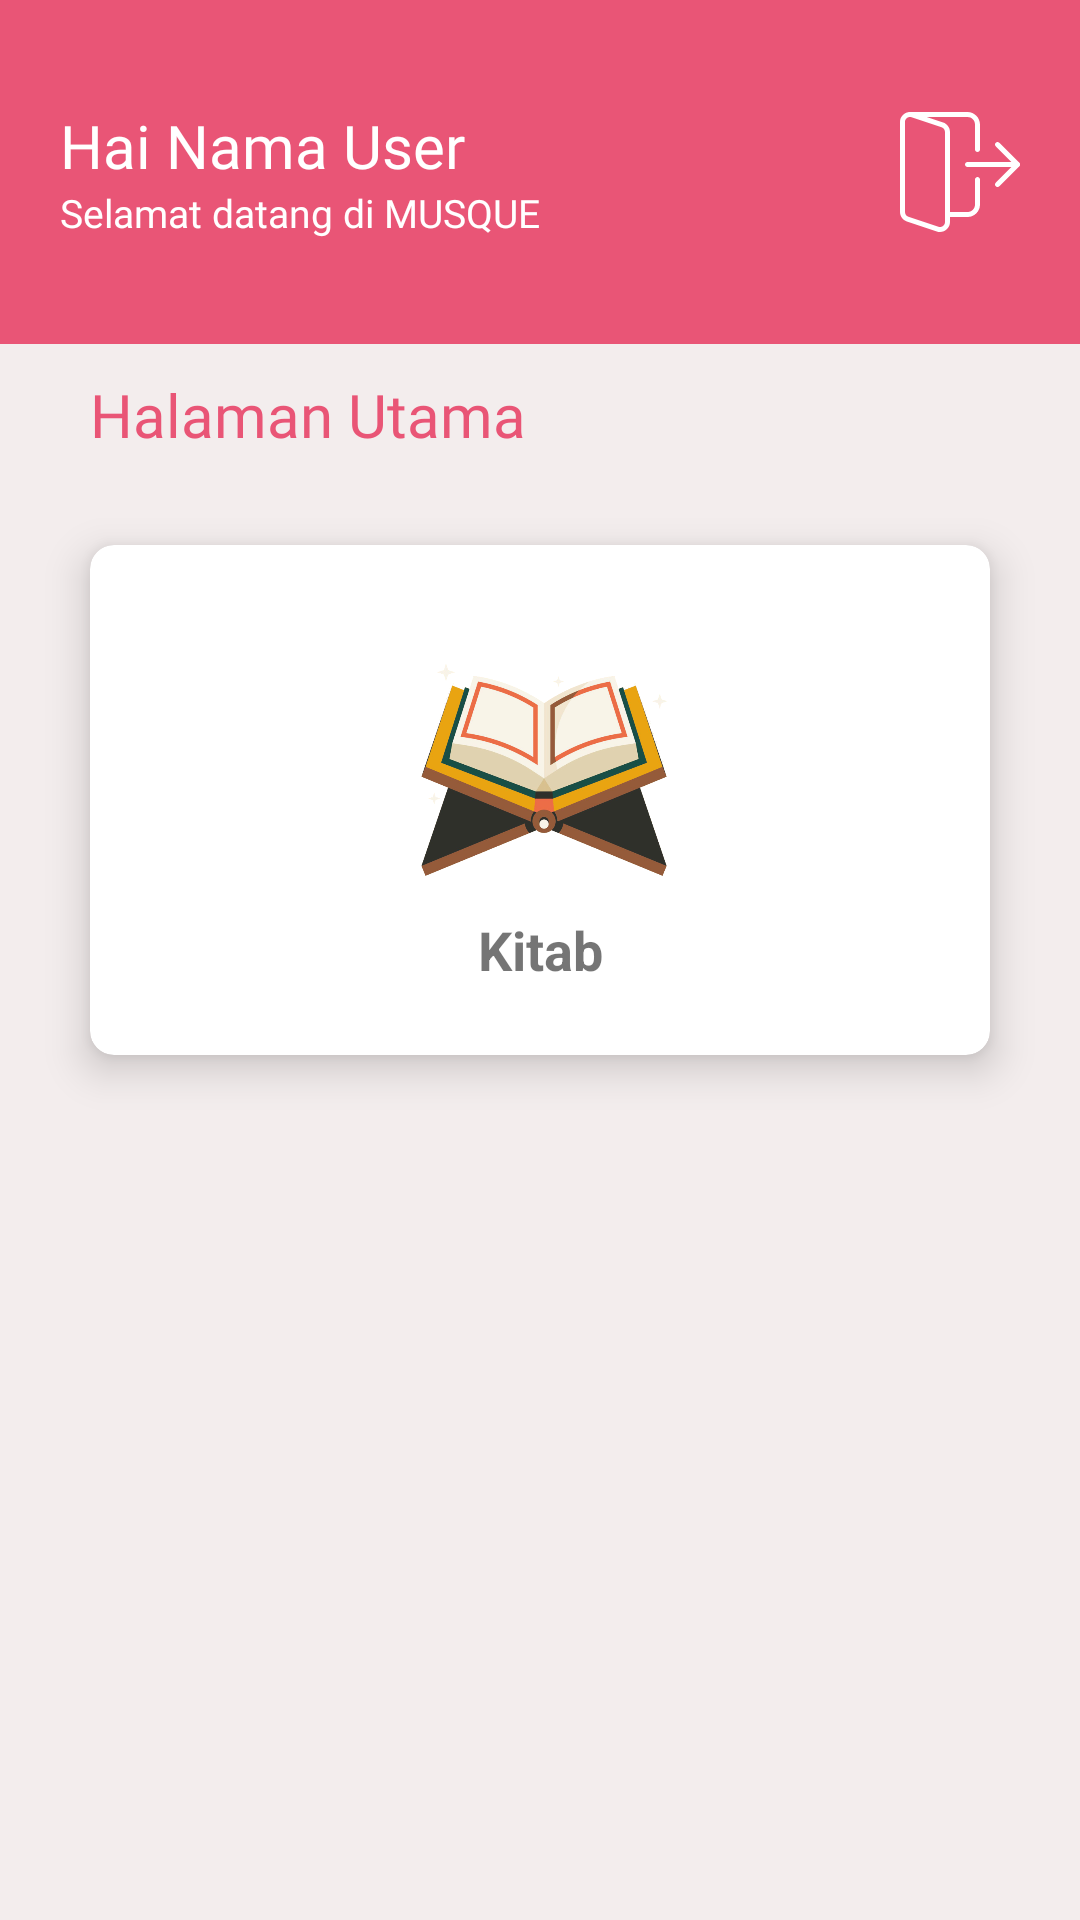

Where to tap for icons on this 1080 x 1920 app screen, as (x,y):
log out: (960,172)
